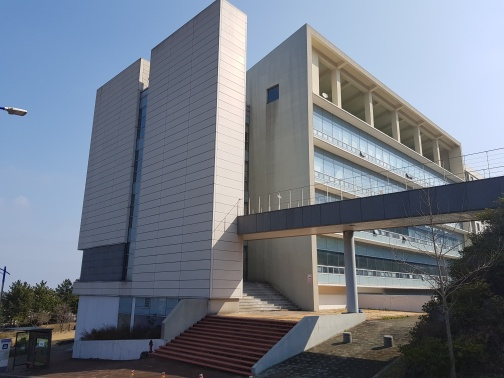Engineering College Building 4: (81, 20, 429, 309), (97, 66, 241, 372), (279, 43, 412, 318)
